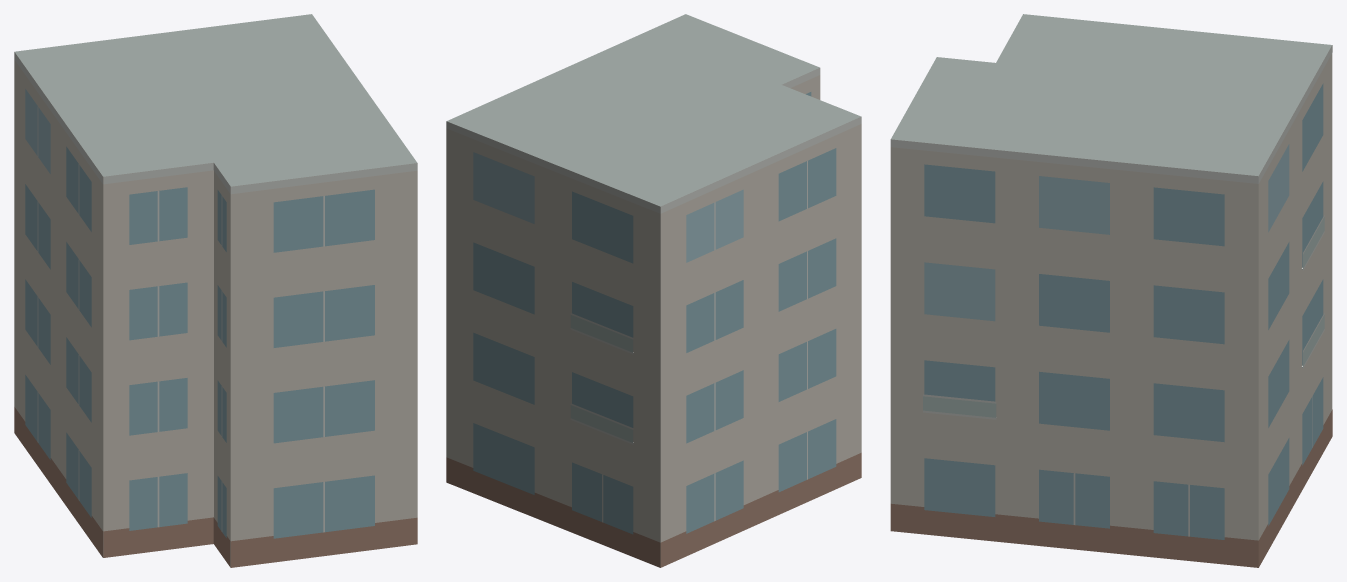
Rendered from residential-559a3e09-cfac-4a93-befc-30d6c34722c9.glb.
3 renders of one model, left to right at view 1: azimuth 30°, elevation 25°; view 2: azimuth 150°, elevation 25°; view 3: azimuth 270°, elevation 25°, orthographic. The views are drawn at different scales.
Parts seen in each view (by area): view 1: residential-559a3e09-cfac-4a93-befc-30d6c34722c9.tmp; view 2: residential-559a3e09-cfac-4a93-befc-30d6c34722c9.tmp; view 3: residential-559a3e09-cfac-4a93-befc-30d6c34722c9.tmp.
Part boxes in pixels (x1,y1,x2,y2): residential-559a3e09-cfac-4a93-befc-30d6c34722c9.tmp: [14, 14, 417, 567]; residential-559a3e09-cfac-4a93-befc-30d6c34722c9.tmp: [446, 14, 861, 567]; residential-559a3e09-cfac-4a93-befc-30d6c34722c9.tmp: [890, 14, 1332, 567].
Size of the model in its own units: 10.84 by 12.2 by 12.48.
